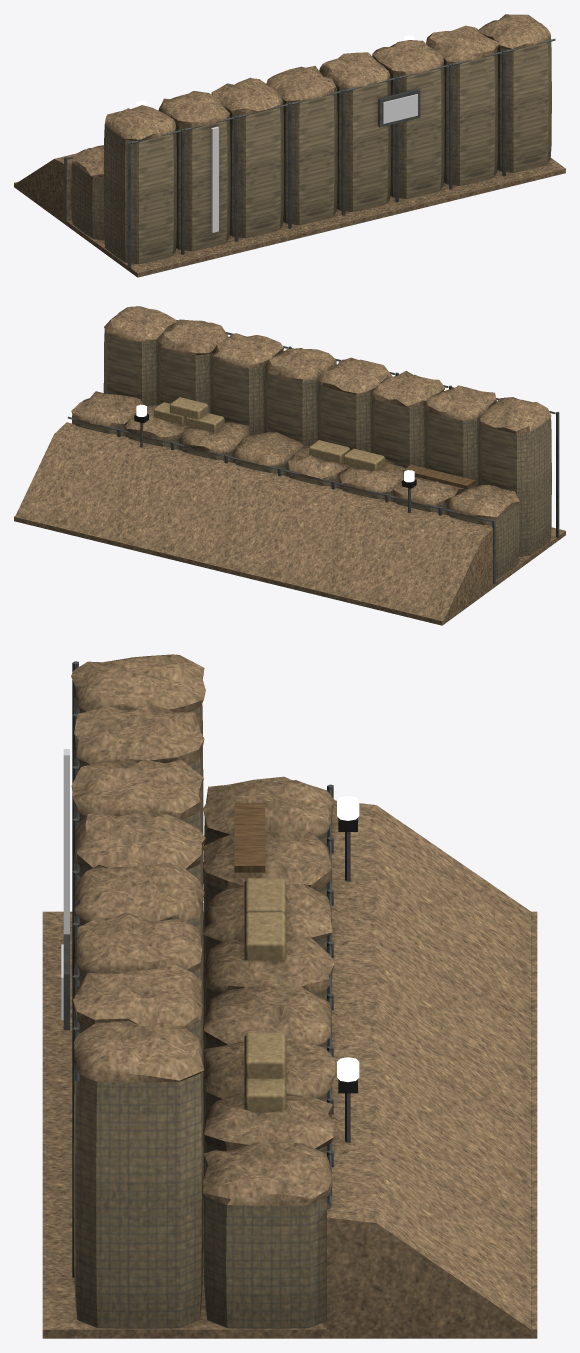
File: hesco.glb
3 views of the same model, one above another, from view 1: azimuth 30°, elevation 25°; view 2: azimuth 150°, elevation 25°; view 3: azimuth 270°, elevation 25° (orthographic). The views are drawn at different scales.
Visible parts, largest first — view 1: Building; view 2: Building; view 3: Building.
Boxes of the visible parts, x1=… form: Building: x1=14, y1=14, x2=565, y2=277; Building: x1=14, y1=306, x2=565, y2=625; Building: x1=42, y1=654, x2=537, y2=1338.
Bounding box in the file's own units: 8.03 × 2.49 × 4.
4 materials, 1 textured.
